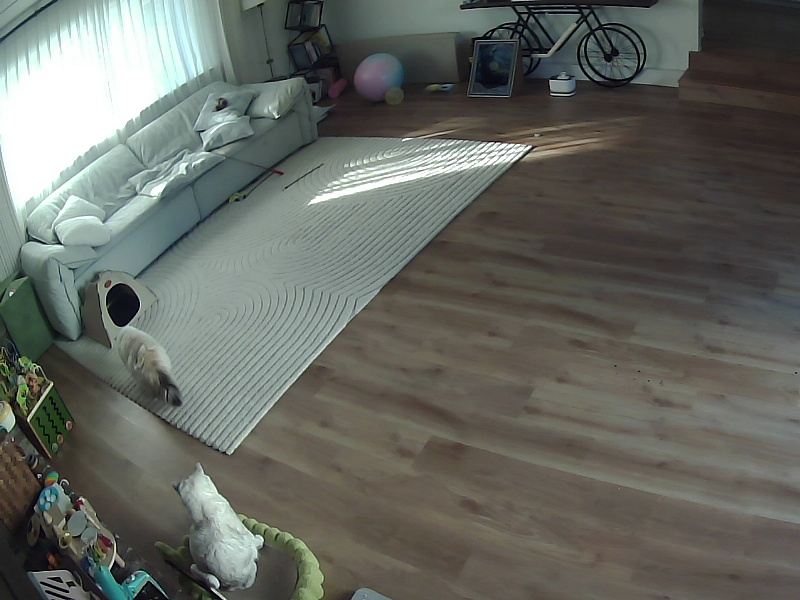Qb-2: (173, 463, 263, 589)
Qbo-2: (115, 325, 182, 405)
